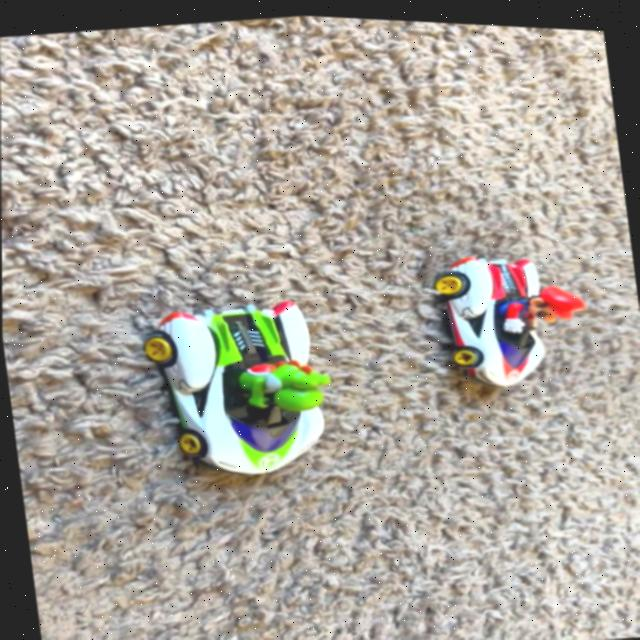mario: (408, 222, 606, 405)
yoshi: (134, 260, 362, 507)
